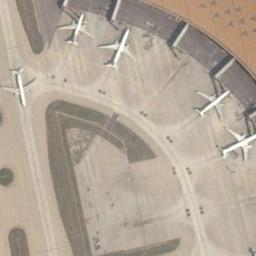Airplane: (99, 22, 138, 72), (193, 82, 232, 122), (2, 69, 40, 110), (216, 127, 256, 164), (58, 14, 94, 50)
